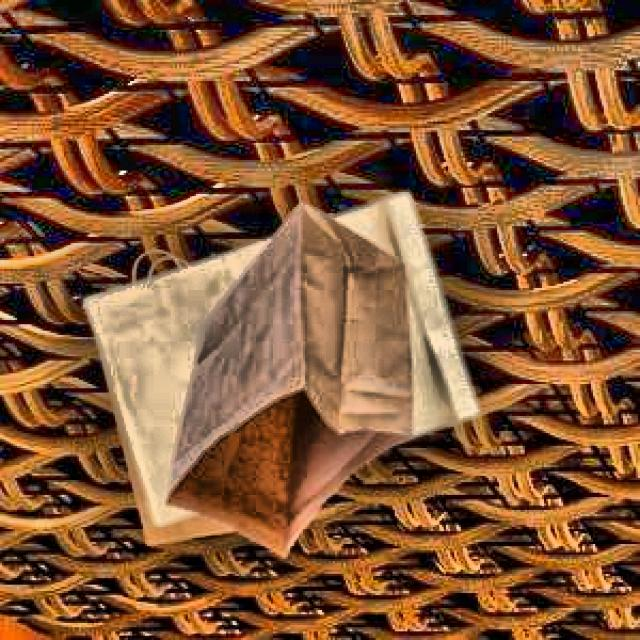Paper-bag: (66, 190, 481, 556), (146, 202, 436, 566)
